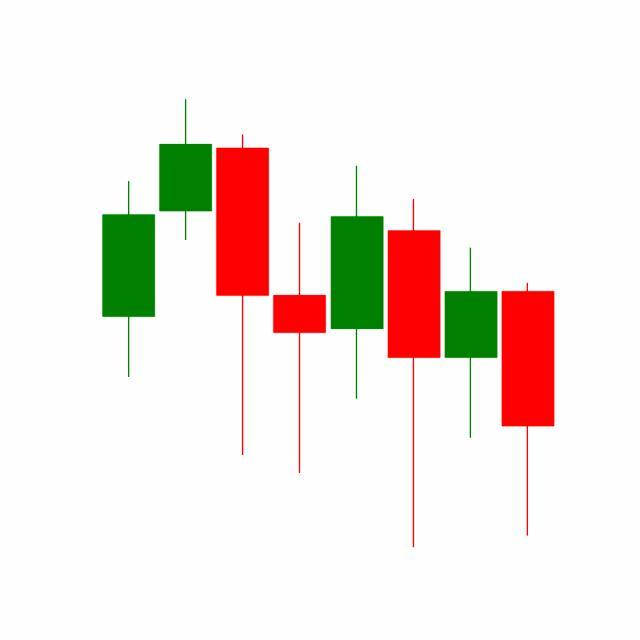Hikkake Pattern: (270, 161, 555, 548)
